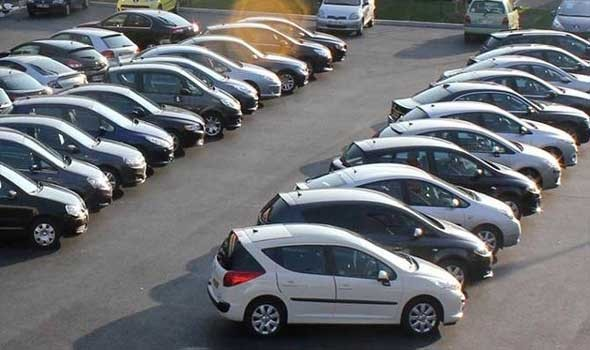Car: (207, 224, 466, 337), (257, 188, 494, 286), (295, 163, 521, 256), (329, 135, 542, 219), (377, 118, 562, 190), (388, 81, 590, 144), (0, 95, 175, 167), (397, 101, 580, 167), (0, 114, 149, 191), (58, 83, 205, 154), (104, 63, 243, 138), (0, 126, 114, 210), (135, 43, 282, 99), (0, 162, 89, 250), (179, 35, 310, 94), (132, 56, 259, 114), (431, 69, 590, 114), (201, 22, 333, 75), (438, 55, 590, 93), (75, 8, 200, 50), (238, 16, 348, 62), (0, 39, 110, 82), (466, 44, 590, 76), (481, 29, 590, 60), (49, 28, 140, 65), (0, 54, 88, 92), (463, 0, 520, 42), (315, 0, 375, 36), (0, 67, 52, 101), (551, 0, 590, 39), (25, 0, 89, 17), (116, 0, 179, 12), (0, 88, 13, 114)
